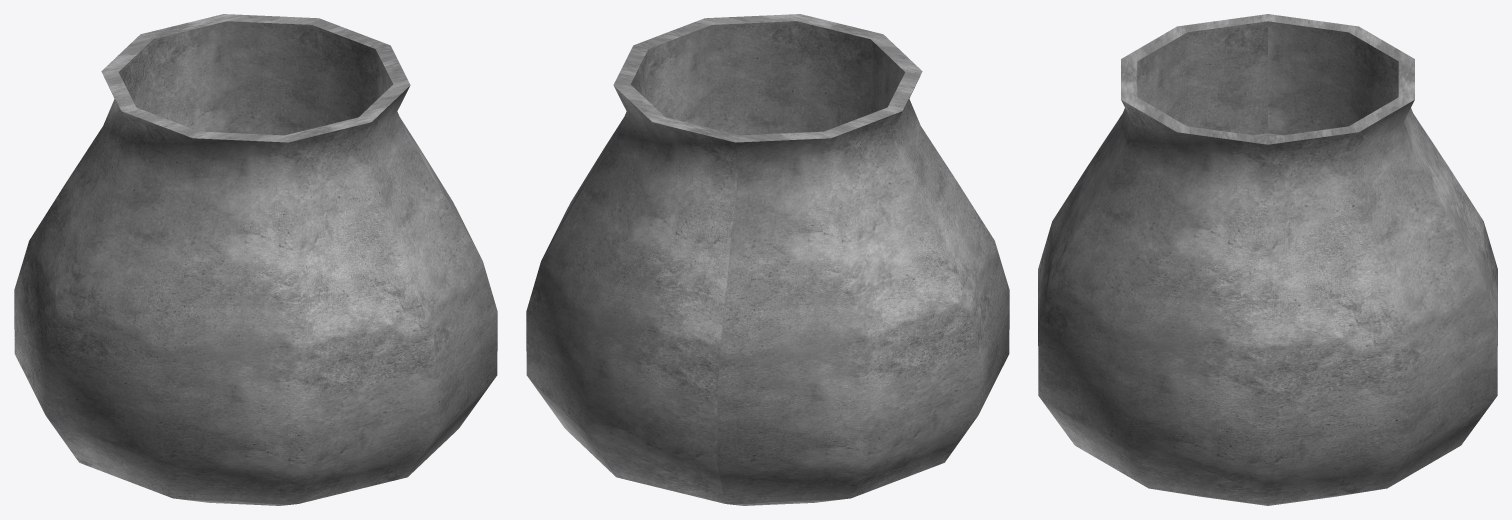
Rendered from PROPS_pottery_02.FBX.
The picture shows the model from 3 angles, left to right: view 1: azimuth 30°, elevation 25°; view 2: azimuth 150°, elevation 25°; view 3: azimuth 270°, elevation 25°; orthographic projection.
Visible parts, largest first — view 1: PROPS_pottery_02; view 2: PROPS_pottery_02; view 3: PROPS_pottery_02.
Part boxes in pixels (box(x1,y1,x2,y2)): PROPS_pottery_02: box(14, 14, 497, 505); PROPS_pottery_02: box(526, 14, 1009, 505); PROPS_pottery_02: box(1038, 14, 1497, 505).
Bounding box in the file's own units: 60 × 51.82 × 57.06.
Materials: 1 (1 with a texture image).
